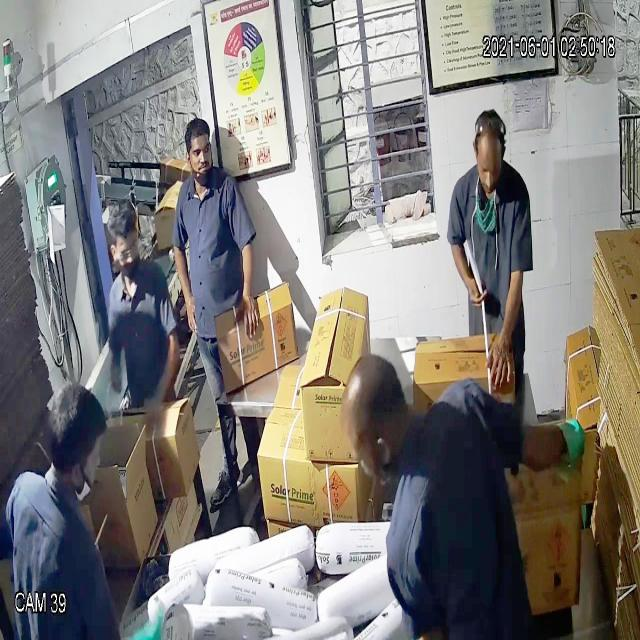glasses: (106, 230, 143, 275)
no-glass: (474, 148, 506, 186), (180, 138, 218, 169)
